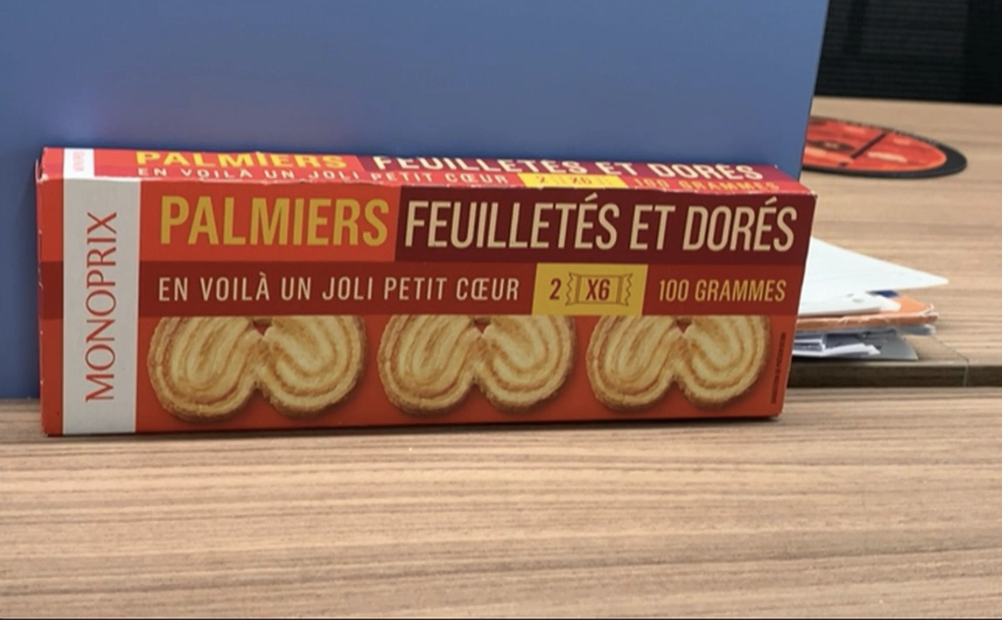cookies_100g-199g: (75, 196, 775, 406)
